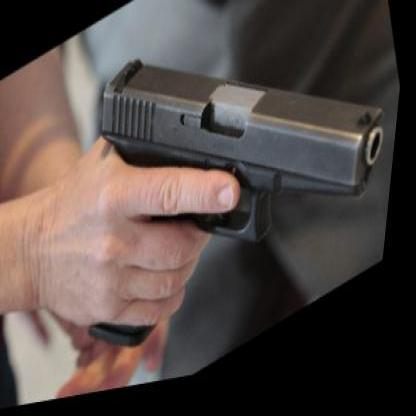pistol: (34, 0, 415, 388)
